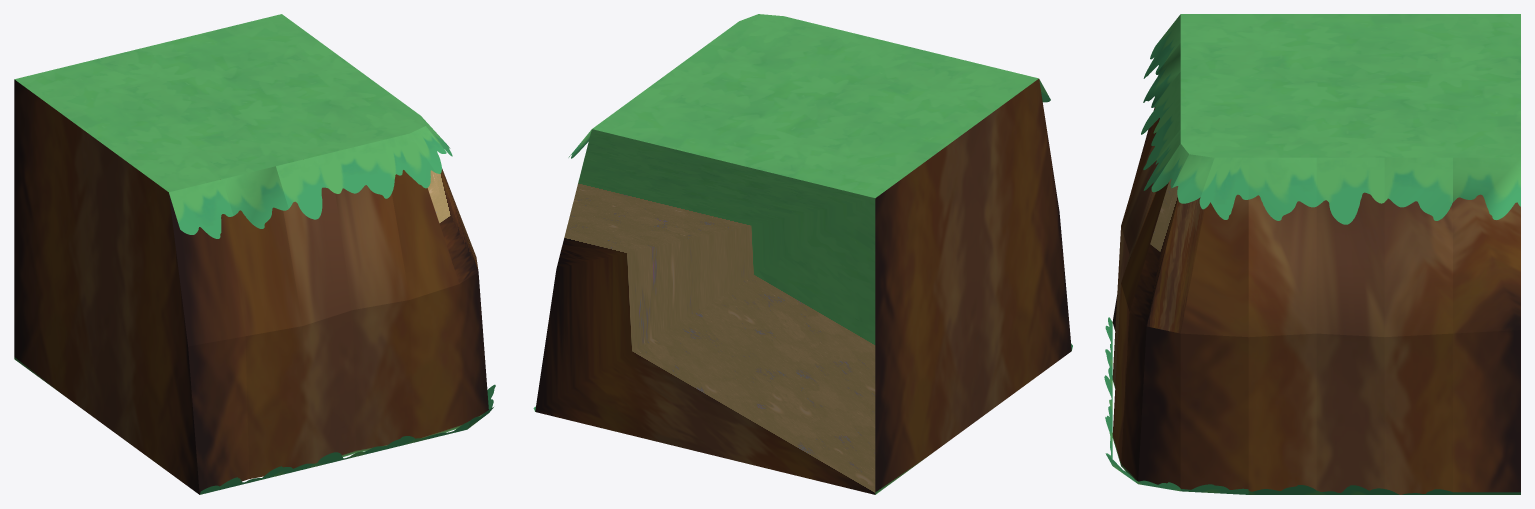
The model's file is Cliff01_Corner_1x1x2.fbx.
3 renders of one model, left to right at view 1: azimuth 30°, elevation 25°; view 2: azimuth 150°, elevation 25°; view 3: azimuth 270°, elevation 25°, orthographic. The views are drawn at different scales.
Visible parts, largest first — view 1: Cliff01_Corner_1x1x2, Cliff01_Corner_1x1x2_Grass; view 2: Cliff01_Corner_1x1x2; view 3: Cliff01_Corner_1x1x2, Cliff01_Corner_1x1x2_Grass.
Boxes of the visible parts, <box> form: Cliff01_Corner_1x1x2: <box>14,14,488,494</box>; Cliff01_Corner_1x1x2_Grass: <box>169,116,495,494</box>; Cliff01_Corner_1x1x2: <box>535,14,1071,494</box>; Cliff01_Corner_1x1x2: <box>1112,14,1520,494</box>; Cliff01_Corner_1x1x2_Grass: <box>1104,14,1520,494</box>.
Size of the model in its own units: 3.06 by 3.06 by 2.5.
